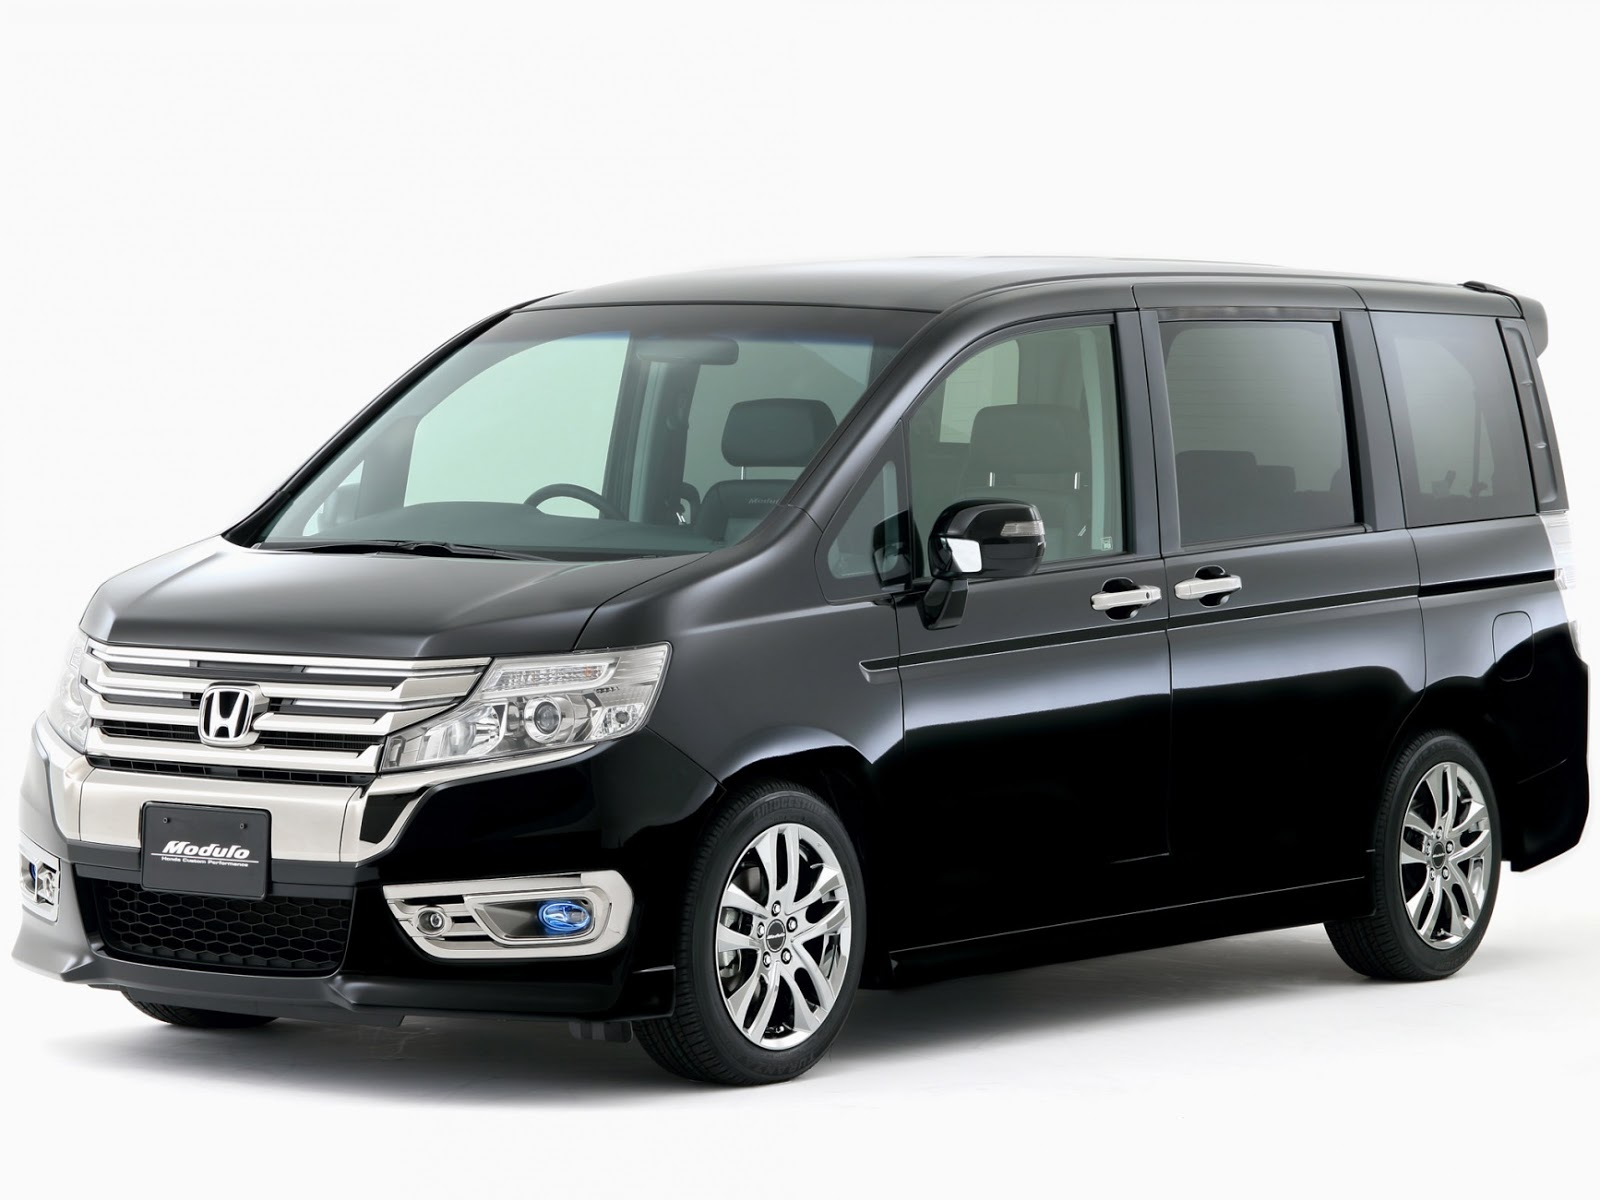van: (11, 251, 1587, 1082)
